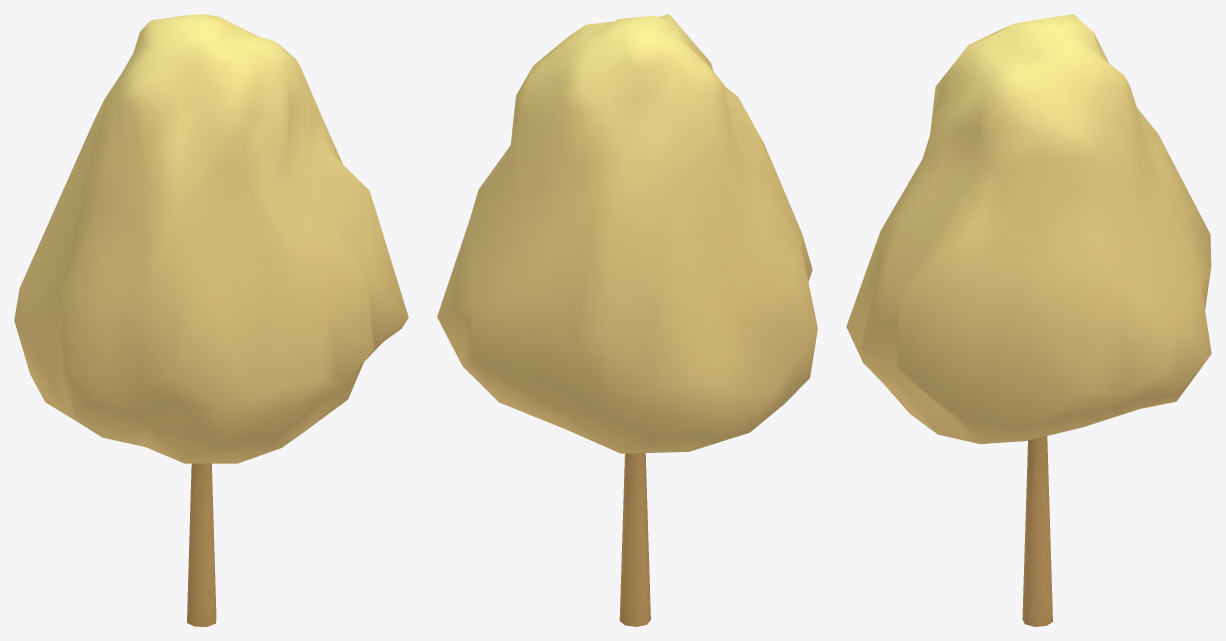
3 views of the same model, side by side, from view 1: azimuth 30°, elevation 25°; view 2: azimuth 150°, elevation 25°; view 3: azimuth 270°, elevation 25° (orthographic).
Parts seen in each view (by area): view 1: Listvennoe; view 2: Listvennoe; view 3: Listvennoe.
Boxes of the visible parts, x1=… form: Listvennoe: x1=14, y1=14, x2=408, y2=626; Listvennoe: x1=437, y1=14, x2=817, y2=626; Listvennoe: x1=846, y1=14, x2=1211, y2=626.
Bounding box in the file's own units: 8.28 × 15.05 × 8.38.
Materials: 1 (1 with a texture image).
